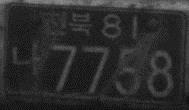1: (130, 14, 139, 42)
5: (114, 46, 141, 96)
7: (78, 45, 111, 95), (47, 42, 77, 91)
8: (147, 51, 173, 96), (101, 12, 122, 40)
나: (11, 39, 42, 80)
전북_O: (44, 9, 92, 37)
